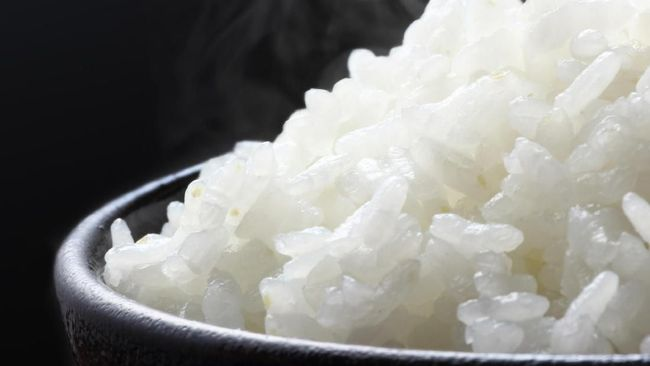Nasi Putih: (28, 29, 630, 356)
